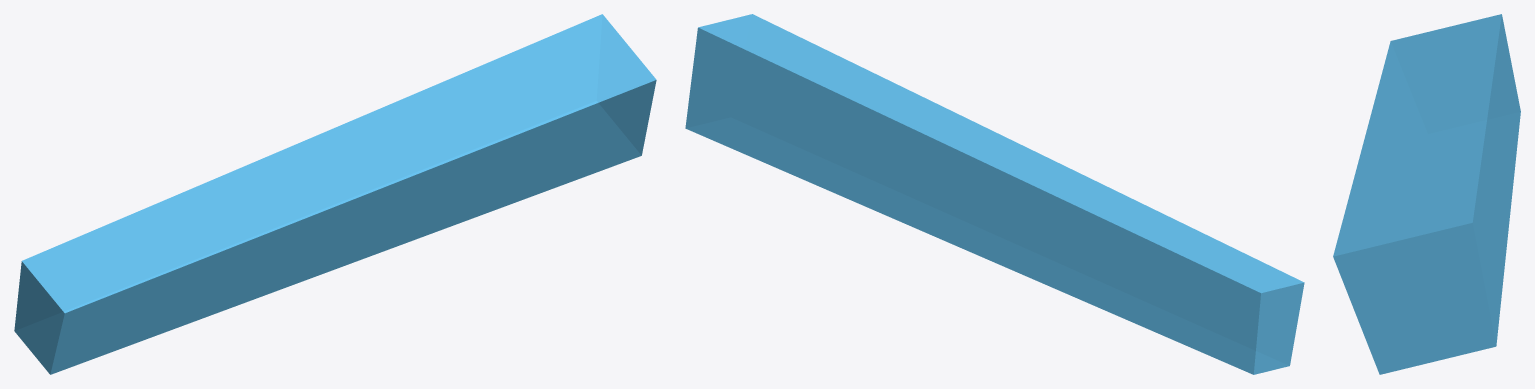
Rendered from Event_421127236_HErechit_37.fbx.
The picture shows the model from 3 angles, left to right: view 1: azimuth 30°, elevation 25°; view 2: azimuth 150°, elevation 25°; view 3: azimuth 270°, elevation 25°; orthographic projection. The views are drawn at different scales.
Parts seen in each view (by area): view 1: Model; view 2: Model; view 3: Model.
Boxes of the visible parts, bbox=[...] form: Model: bbox=[14, 14, 656, 374]; Model: bbox=[685, 14, 1304, 374]; Model: bbox=[1333, 14, 1520, 374].
Bounding box in the file's own units: 2.83 × 0.9899 × 0.6234.
